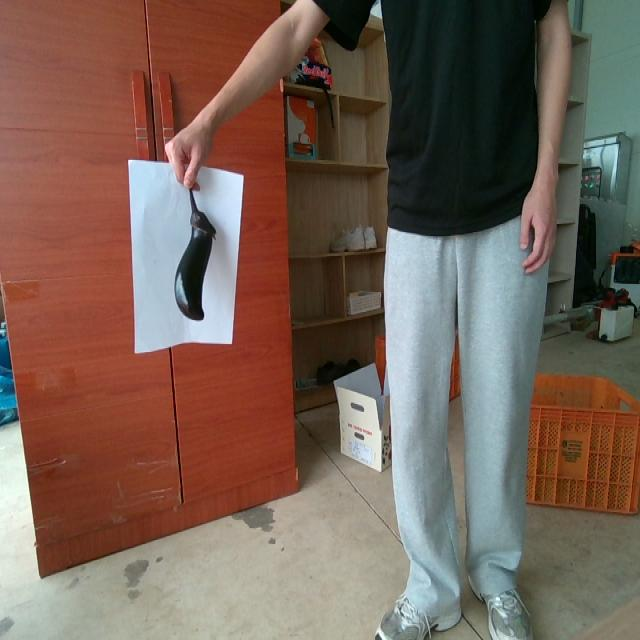Egg plant: (175, 189, 215, 320)
